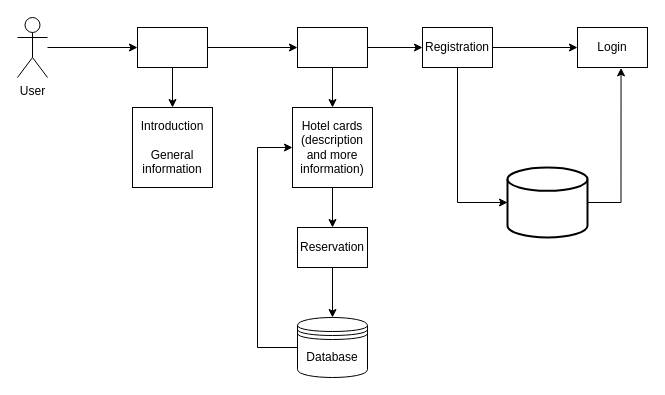
Image size: 665x395. Some labels were removed from this diagram. Each missing label, with the centre of its shape:
"Destination" belongs at (332,47).
"Homepage" belongs at (172,47).
"MongoDB" belongs at (547,202).
